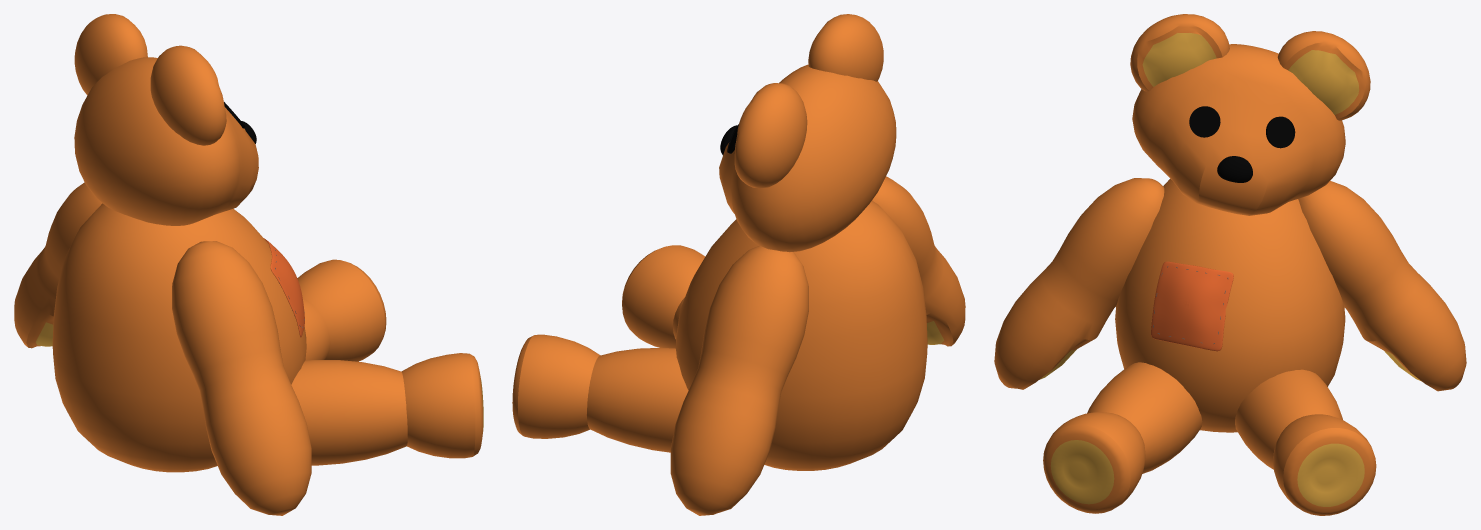
The model's file is bear_Textures.fbx.
3 views of the same model, side by side, from view 1: azimuth 30°, elevation 25°; view 2: azimuth 150°, elevation 25°; view 3: azimuth 270°, elevation 25° (orthographic). The views are drawn at different scales.
Visible parts, largest first — view 1: Sphere.001, Sphere.002, Sphere, Sphere.004, Sphere.005, Sphere.008, Sphere.003, Sphere.006, Cube; view 2: Sphere.001, Sphere.003, Sphere, Sphere.005, Sphere.006, Sphere.002, Sphere.004, Sphere.008; view 3: Sphere.001, Sphere, Sphere.002, Sphere.003, Sphere.004, Sphere.005, Cube, Sphere.006, Sphere.008, Circle, Sphere.009, Circle.001.
Boxes of the visible parts, x1,y1,x2,y2 form: Sphere.001: (52,203,306,472); Sphere.002: (172,241,311,515); Sphere: (74,57,258,225); Sphere.004: (291,353,483,465); Sphere.005: (297,259,386,361); Sphere.008: (150,45,226,145); Sphere.003: (14,182,102,348); Sphere.006: (74,14,147,95); Cube: (264,238,304,337); Sphere.001: (675,200,927,470); Sphere.003: (670,245,808,515); Sphere: (719,64,896,252); Sphere.005: (512,334,688,452); Sphere.006: (734,83,807,188); Sphere.002: (872,176,965,346); Sphere.004: (622,245,705,348); Sphere.008: (808,14,883,81); Sphere.001: (1115,178,1345,432); Sphere: (1132,44,1345,215); Sphere.002: (994,178,1164,389); Sphere.003: (1298,180,1466,391); Sphere.004: (1043,362,1202,513); Sphere.005: (1235,369,1376,515); Cube: (1151,261,1233,351); Sphere.006: (1277,31,1370,120); Sphere.008: (1130,14,1229,91); Circle: (1189,106,1220,137); Sphere.009: (1217,156,1252,182); Circle.001: (1266,116,1295,148).
Size of the model in its own units: 605 by 699 by 758.
